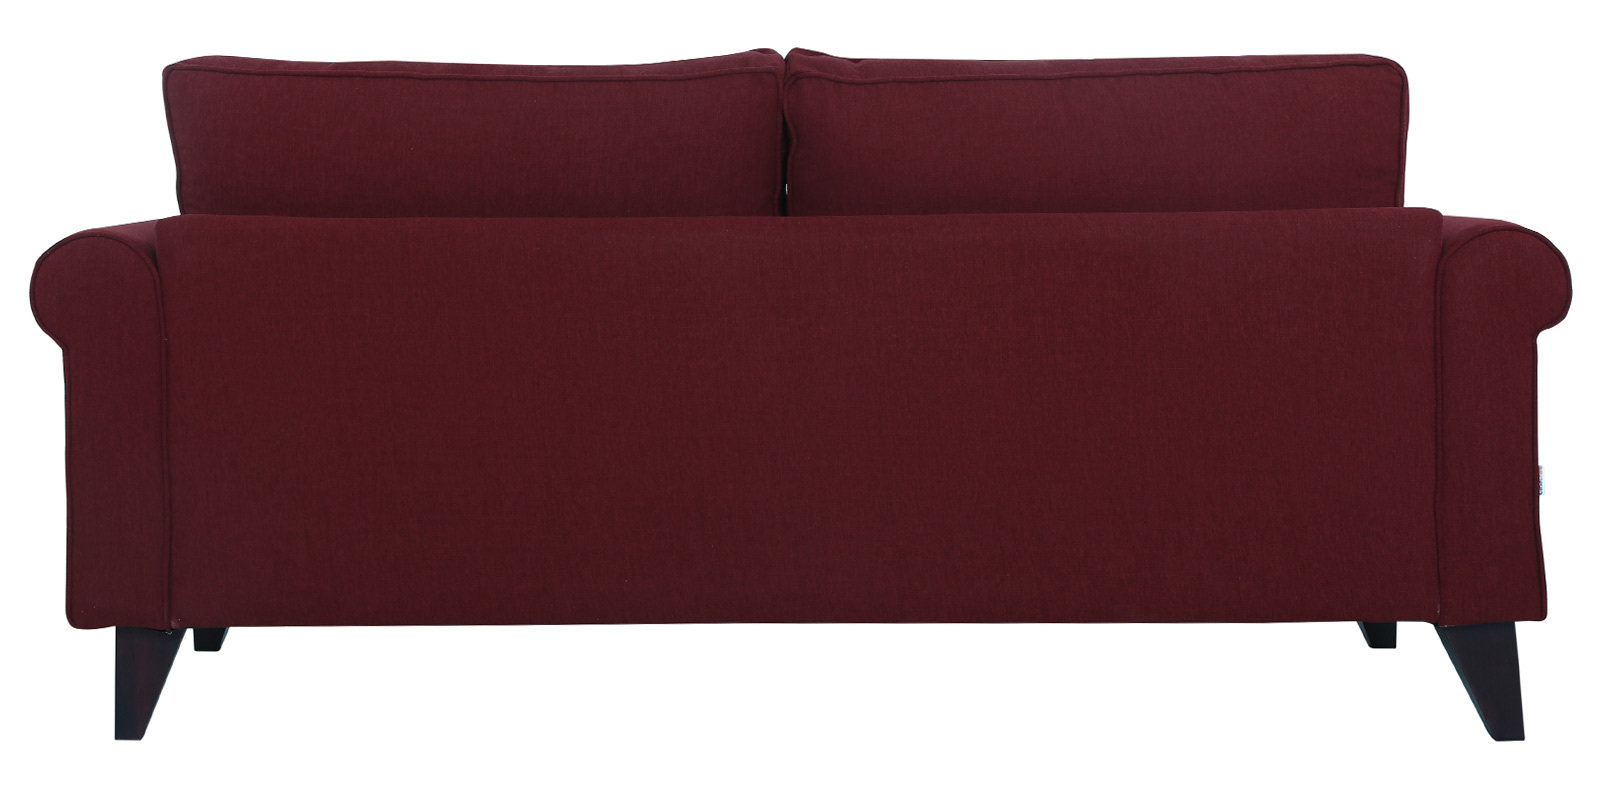Fuego Three Seater Sofa in Garnet Red Colour by CasaCraft: (31, 37, 1582, 790)
